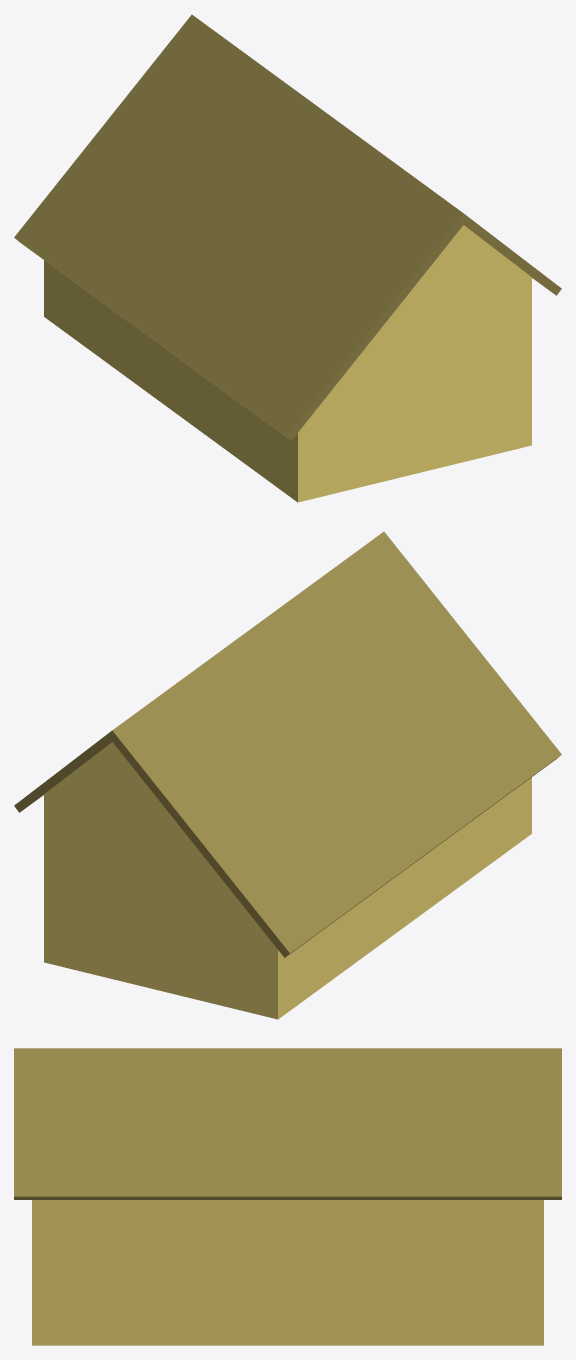
The model's file is result.glb.
3 renders of one model, top to bottom at view 1: azimuth 30°, elevation 25°; view 2: azimuth 150°, elevation 25°; view 3: azimuth 270°, elevation 25°, orthographic.
Parts seen in each view (by area): view 1: ee521eb6-73a9-4d8f-be97-78262b0240ae__undefined (×2), b4c53c9d-3afa-4725-9497-8d0cdf74a257__undefined; view 2: ee521eb6-73a9-4d8f-be97-78262b0240ae__undefined (×2), b4c53c9d-3afa-4725-9497-8d0cdf74a257__undefined; view 3: ee521eb6-73a9-4d8f-be97-78262b0240ae__undefined, b4c53c9d-3afa-4725-9497-8d0cdf74a257__undefined.
Part boxes in pixels (bbox=[...]): ee521eb6-73a9-4d8f-be97-78262b0240ae__undefined (×2): bbox=[14, 14, 561, 440]; b4c53c9d-3afa-4725-9497-8d0cdf74a257__undefined: bbox=[44, 225, 531, 502]; ee521eb6-73a9-4d8f-be97-78262b0240ae__undefined (×2): bbox=[14, 531, 561, 957]; b4c53c9d-3afa-4725-9497-8d0cdf74a257__undefined: bbox=[44, 742, 531, 1019]; ee521eb6-73a9-4d8f-be97-78262b0240ae__undefined: bbox=[14, 1048, 561, 1199]; b4c53c9d-3afa-4725-9497-8d0cdf74a257__undefined: bbox=[32, 1200, 543, 1345].
Size of the model in its own units: 888 by 791 by 1514.
